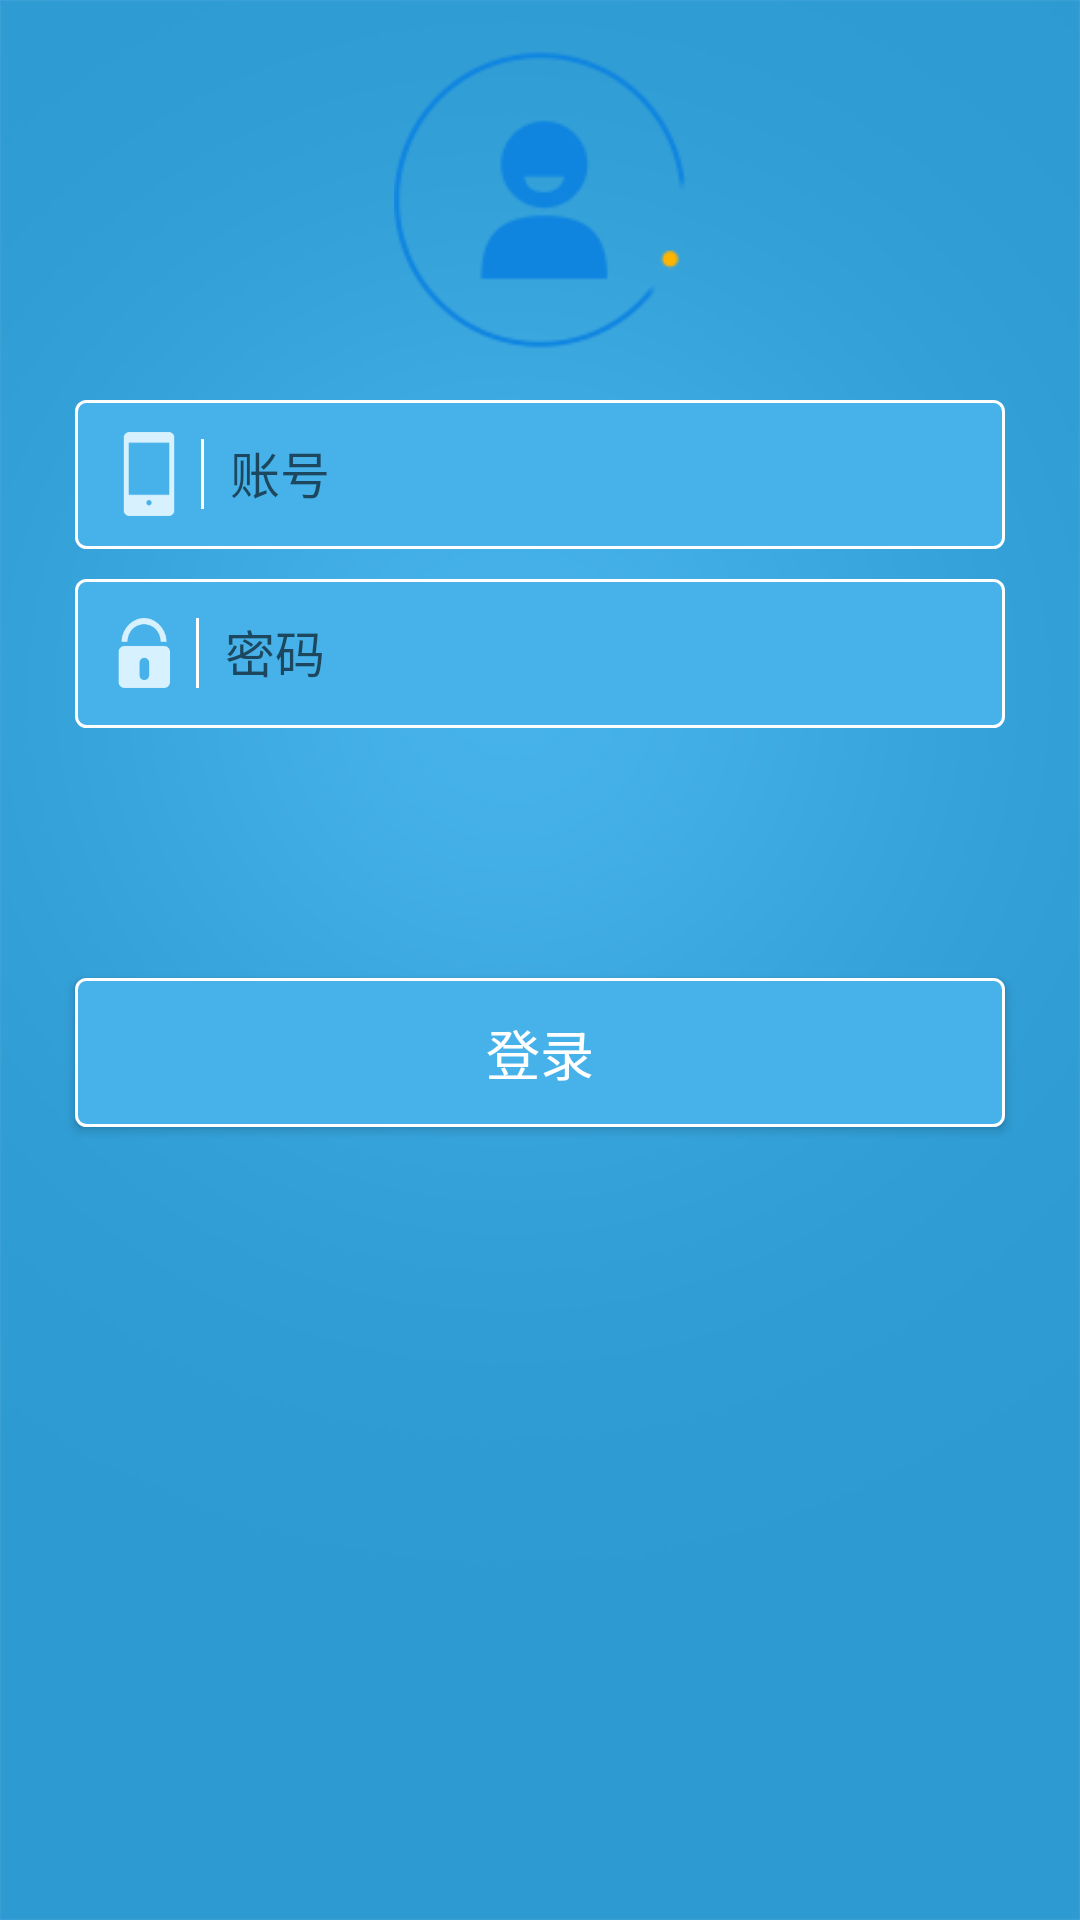

Icon bounding boxes for this 1080x1920 phone screenshot, format (x1, y1, x2, y2):
mine: (394, 54, 683, 346)
password: (118, 618, 170, 688)
phone: (123, 432, 175, 516)
